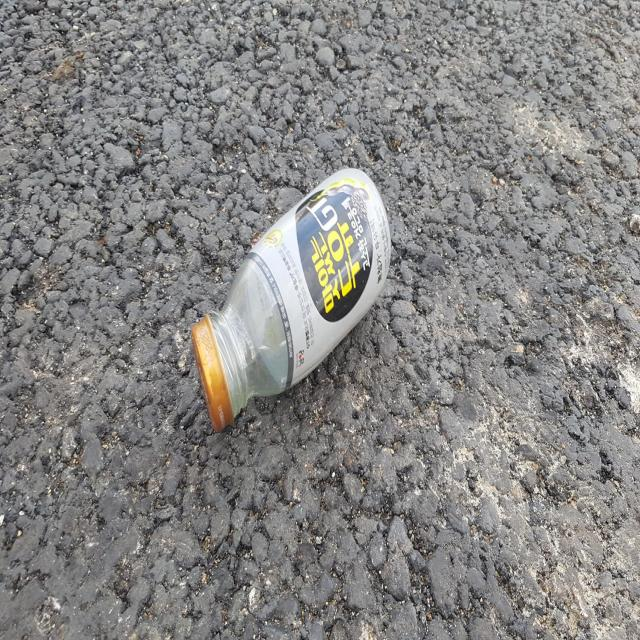glass: (192, 168, 391, 430)
